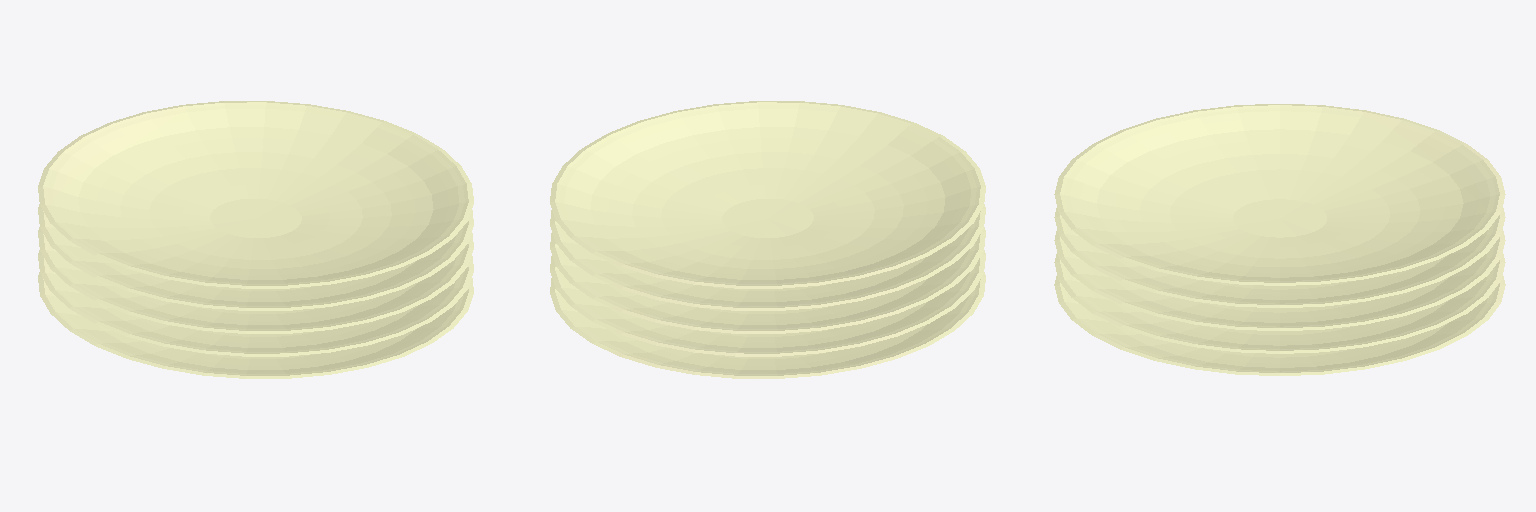
3 views of the same model, side by side, from view 1: azimuth 30°, elevation 25°; view 2: azimuth 150°, elevation 25°; view 3: azimuth 270°, elevation 25° (orthographic).
Visible parts, largest first — view 1: Sphere.012, Sphere.010, Sphere.009, Sphere.011, Sphere.008; view 2: Sphere.012, Sphere.010, Sphere.009, Sphere.011, Sphere.008; view 3: Sphere.012, Sphere.010, Sphere.009, Sphere.008, Sphere.011.
Part boxes in pixels (left/top/right/bottom): Sphere.012: left=38, top=101, right=473, bottom=288; Sphere.010: left=38, top=227, right=473, bottom=333; Sphere.009: left=38, top=250, right=473, bottom=356; Sphere.011: left=38, top=204, right=473, bottom=310; Sphere.008: left=38, top=272, right=473, bottom=378; Sphere.012: left=550, top=101, right=985, bottom=288; Sphere.010: left=550, top=227, right=985, bottom=333; Sphere.009: left=550, top=250, right=985, bottom=356; Sphere.011: left=550, top=204, right=985, bottom=310; Sphere.008: left=550, top=272, right=985, bottom=378; Sphere.012: left=1054, top=104, right=1505, bottom=285; Sphere.010: left=1054, top=230, right=1505, bottom=330; Sphere.009: left=1054, top=253, right=1505, bottom=353; Sphere.008: left=1054, top=276, right=1505, bottom=375; Sphere.011: left=1054, top=208, right=1505, bottom=307.
Bounding box in the file's own units: 2.97 × 0.9403 × 3.11.
1 materials, 1 textured.